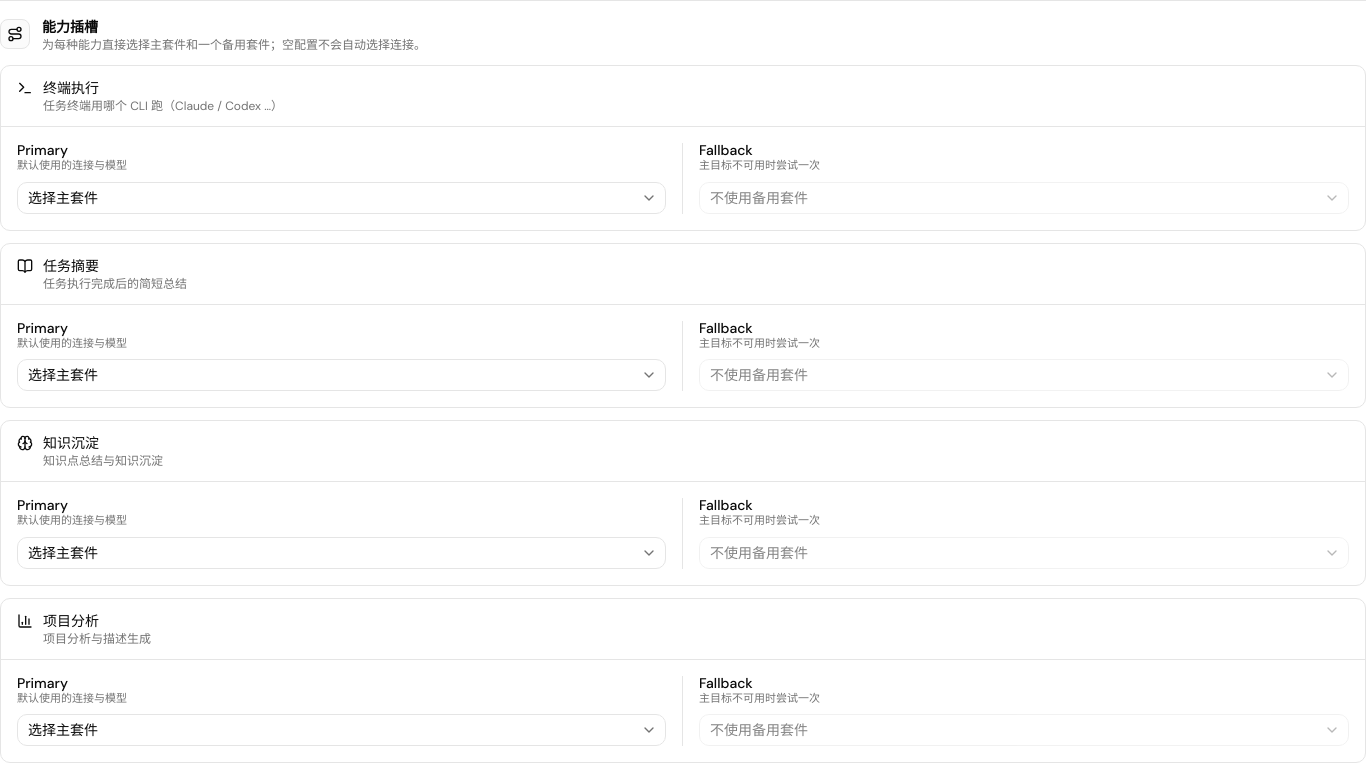
Scenario: CapabilitySlotsSection › filters API connections out of the Terminal Primary selector
Click the dropdown named "Primary". click: (63, 198)
box: top-left (17, 182), bottom-right (666, 214)
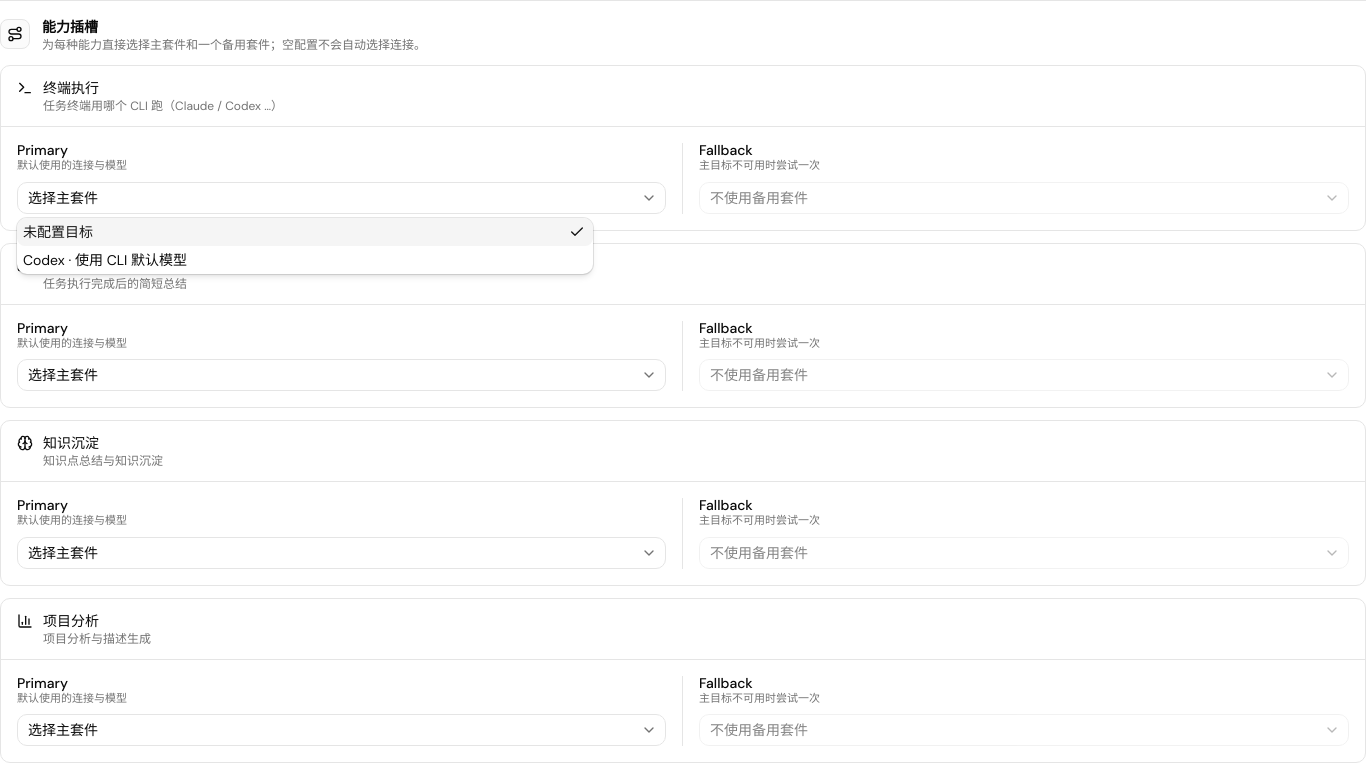
Now the option "Codex · 使用 CLI 默认模型" is shown, box top-left (23, 251), bottom-right (187, 269)
